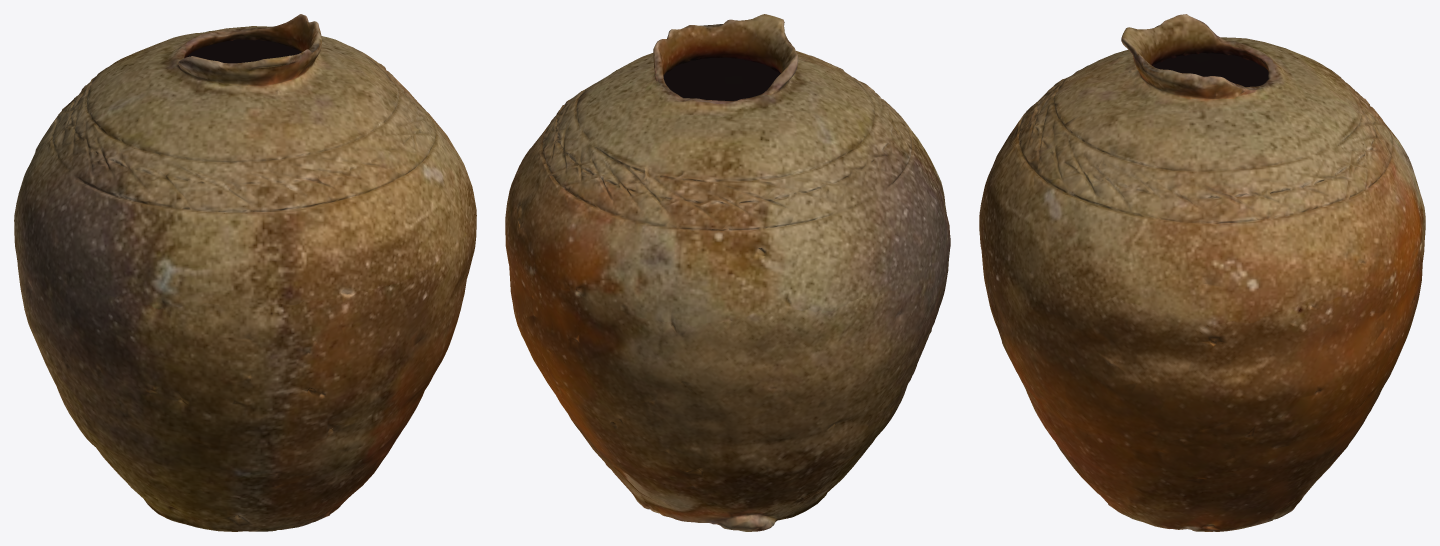
File: cma-shigaraki-ash-glazed-storage-jar.glb
The picture shows the model from 3 angles, left to right: view 1: azimuth 30°, elevation 25°; view 2: azimuth 150°, elevation 25°; view 3: azimuth 270°, elevation 25°; orthographic projection. The views are drawn at different scales.
Parts seen in each view (by area): view 1: 1973.18_storage_jar; view 2: 1973.18_storage_jar; view 3: 1973.18_storage_jar.
Boxes of the visible parts, left/top/right/bottom form: 1973.18_storage_jar: left=14, top=14, right=476, bottom=531; 1973.18_storage_jar: left=505, top=14, right=950, bottom=531; 1973.18_storage_jar: left=979, top=14, right=1425, bottom=531.
Size of the model in its own units: 0.4127 by 0.457 by 0.4036.
1 material, 1 textured.
